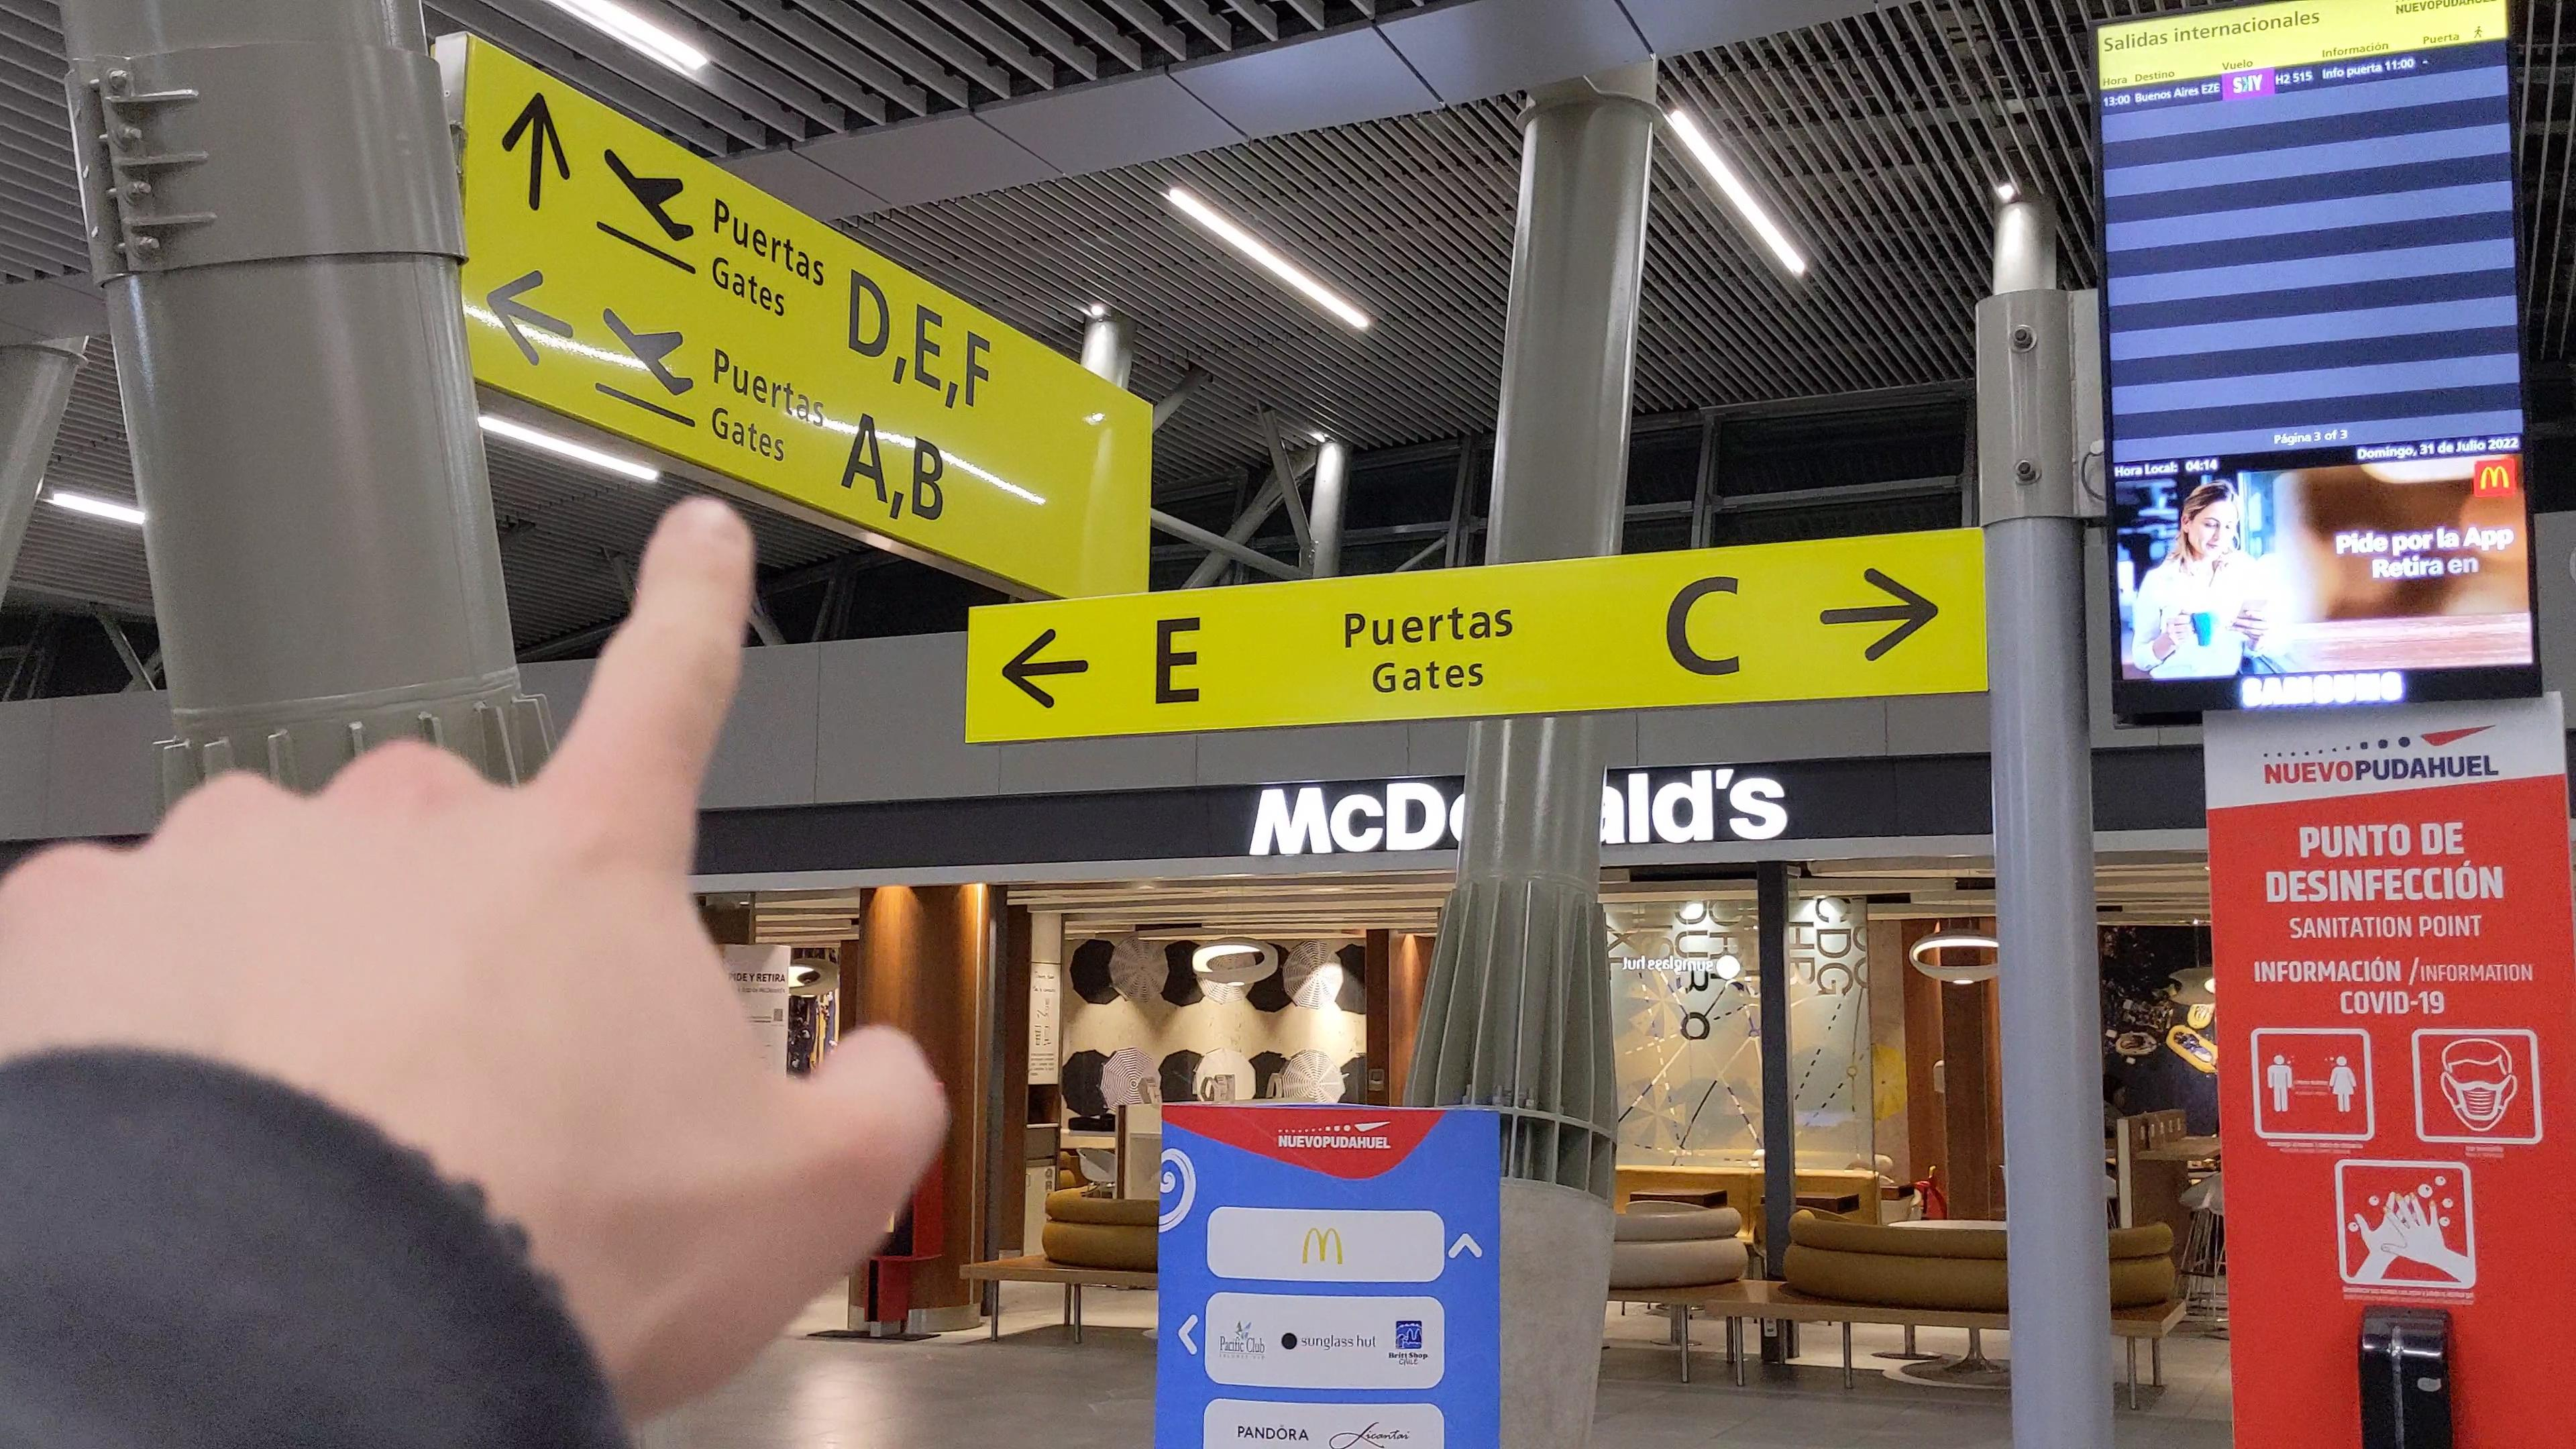airplane symbol: (598, 142, 702, 248), (594, 303, 701, 405)
thin left arrow: (478, 262, 579, 370), (996, 623, 1099, 713)
thin right arrow: (1819, 566, 1944, 667)
thin up arrow: (497, 85, 575, 214)
